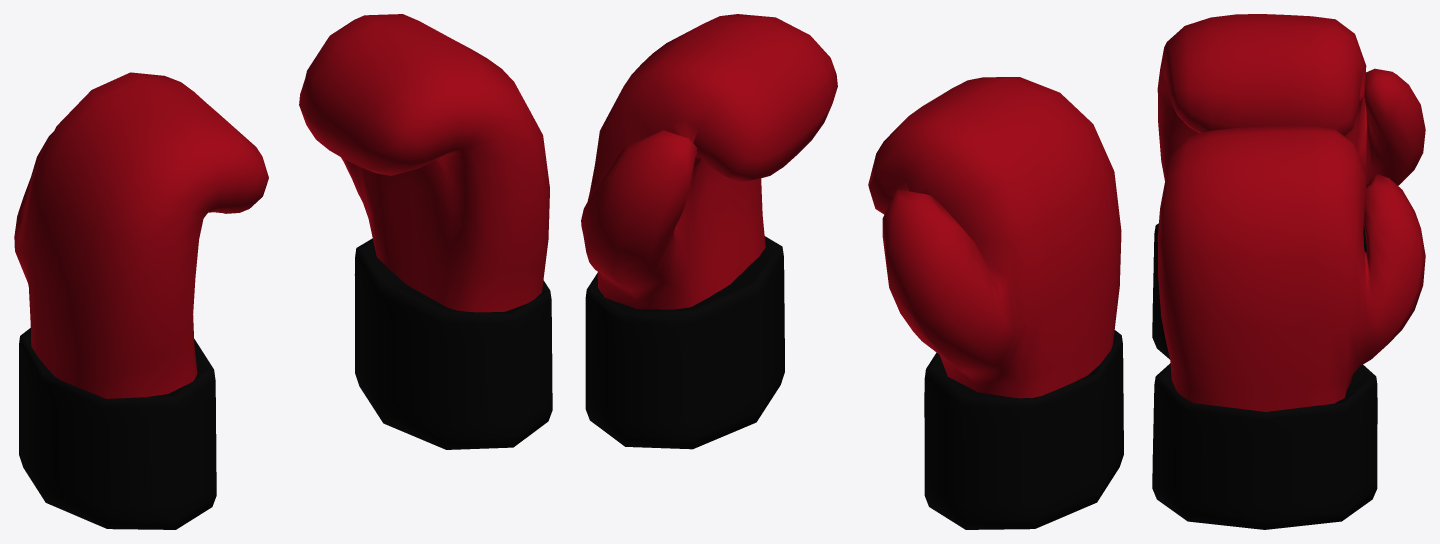
The model's file is Boxhandschuhe.fbx.
3 views of the same model, side by side, from view 1: azimuth 30°, elevation 25°; view 2: azimuth 150°, elevation 25°; view 3: azimuth 270°, elevation 25° (orthographic). The views are drawn at different scales.
Visible parts, largest first — view 1: links, rechts; view 2: links, rechts; view 3: rechts, links.
Boxes of the visible parts, x1,y1,x2,y2 form: links: (14,72,268,529); rechts: (299,14,552,449); links: (868,77,1123,529); rechts: (581,14,837,449); rechts: (1152,125,1425,529); links: (1152,14,1425,359).
Bounding box in the file's own units: 792 × 601 × 421.
